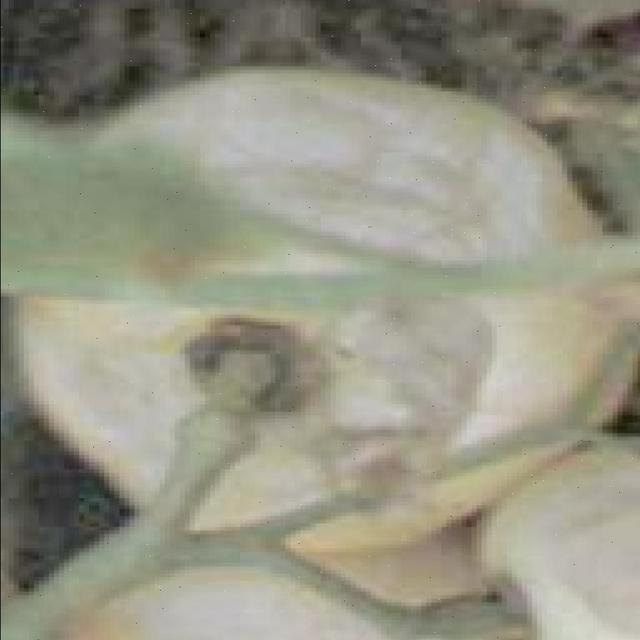Sunscald Fruit: (161, 108, 254, 266)
